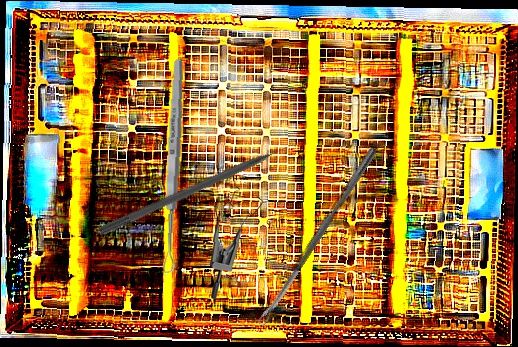Pusher: (97, 138, 302, 238)
Speculum: (207, 184, 266, 300)
Surgical Spoon: (256, 144, 379, 327), (160, 57, 186, 275)
